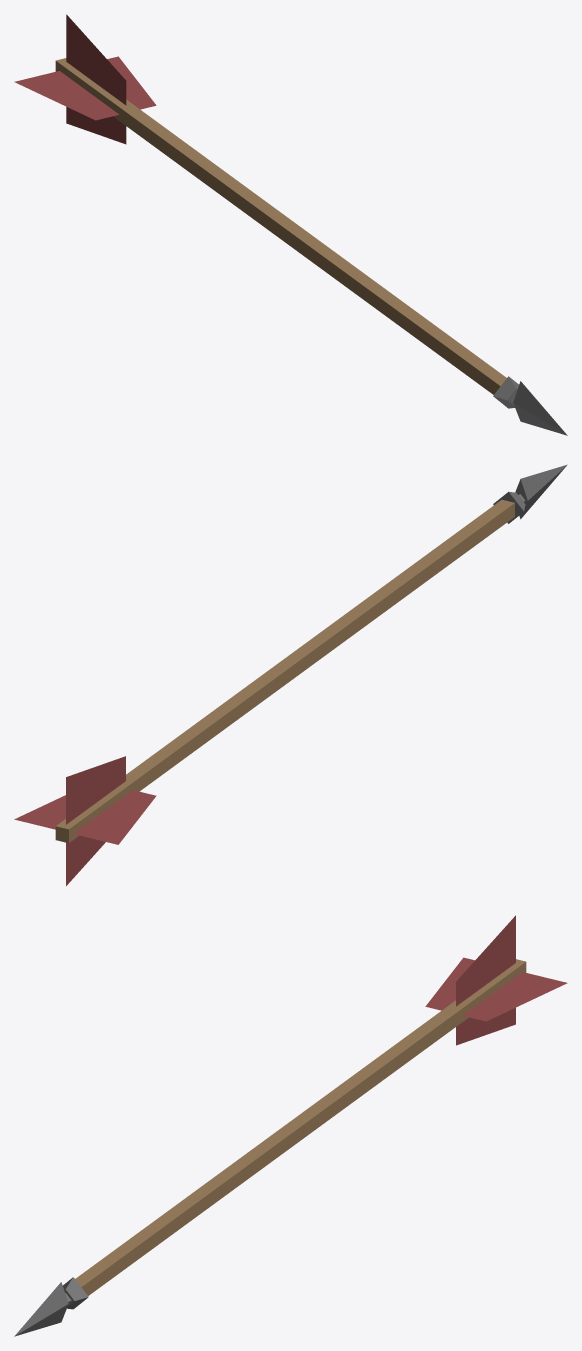
File: Arrow.fbx
3 views of the same model, one above another, from view 1: azimuth 30°, elevation 25°; view 2: azimuth 150°, elevation 25°; view 3: azimuth 330°, elevation 25° (orthographic).
Visible parts, largest first — view 1: group249_pCylinder270; view 2: group249_pCylinder270; view 3: group249_pCylinder270.
Part boxes in pixels (x1,y1,x2,y2): group249_pCylinder270: (14, 14, 567, 435); group249_pCylinder270: (14, 464, 567, 885); group249_pCylinder270: (14, 915, 567, 1336).
Size of the model in its own units: 0.1116 by 0.1116 by 0.935.
